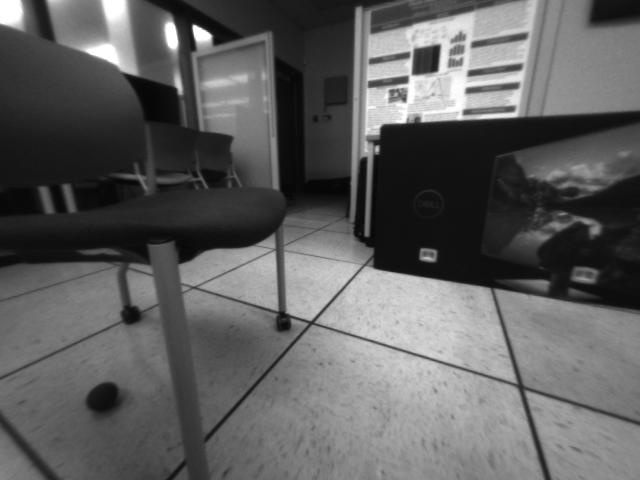dogtoy: (76, 375, 128, 418)
